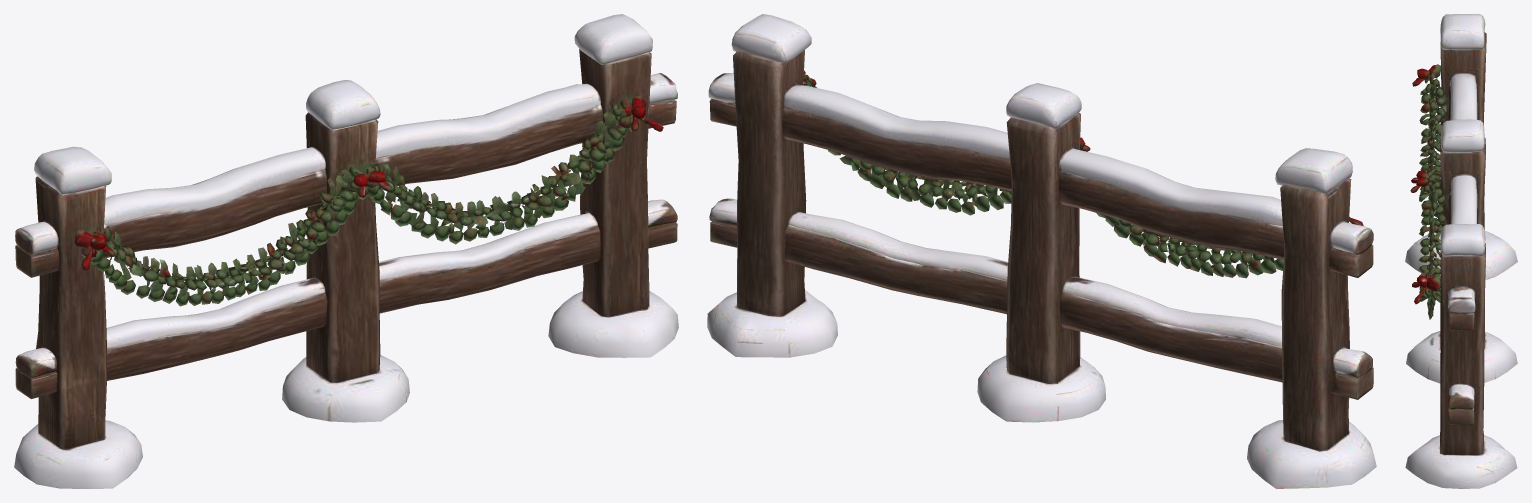
The model's file is p-fence.glb.
3 views of the same model, side by side, from view 1: azimuth 30°, elevation 25°; view 2: azimuth 150°, elevation 25°; view 3: azimuth 270°, elevation 25° (orthographic). The views are drawn at different scales.
Visible parts, largest first — view 1: Mesh_0; view 2: Mesh_0; view 3: Mesh_0.
Boxes of the visible parts, x1,y1,x2,y2 form: Mesh_0: (14, 14, 678, 488); Mesh_0: (707, 14, 1376, 488); Mesh_0: (1405, 14, 1517, 488).
Size of the model in its own units: 1 by 0.4578 by 0.1934.
1 material, 1 textured.
